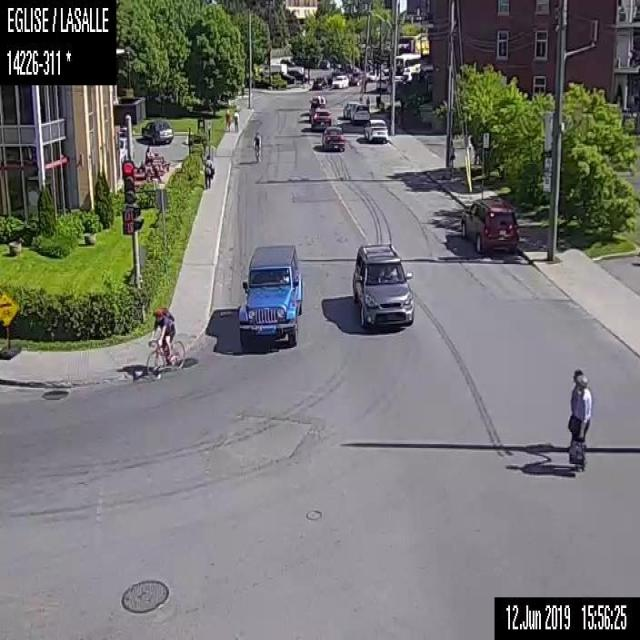bus: (394, 53, 420, 77)
cyclist: (146, 304, 186, 380), (252, 128, 261, 163)
pedestrian: (566, 366, 593, 471), (202, 153, 212, 188), (447, 139, 456, 172), (231, 103, 239, 133), (224, 103, 231, 132), (144, 145, 154, 161), (365, 93, 370, 111)
vehicle: (237, 241, 304, 351), (350, 240, 415, 328), (458, 194, 519, 254), (140, 117, 174, 144), (363, 116, 388, 144), (322, 128, 344, 152), (310, 107, 332, 130), (118, 136, 134, 165), (350, 102, 369, 122), (287, 66, 307, 83), (341, 100, 357, 118), (348, 71, 366, 85), (331, 74, 348, 88), (310, 93, 326, 107), (312, 76, 327, 88)
